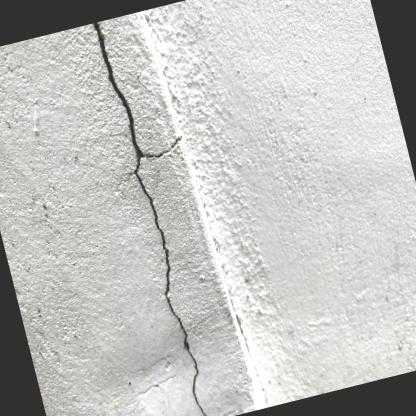crack: (91, 21, 208, 416)
